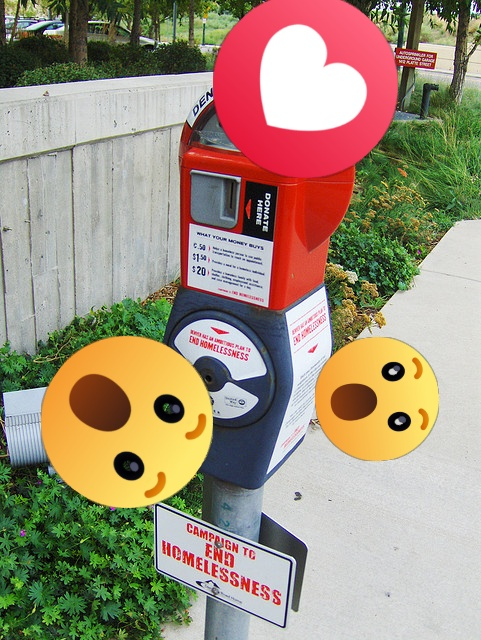love: (213, 0, 398, 178)
wow: (41, 336, 213, 508), (315, 337, 439, 461)
